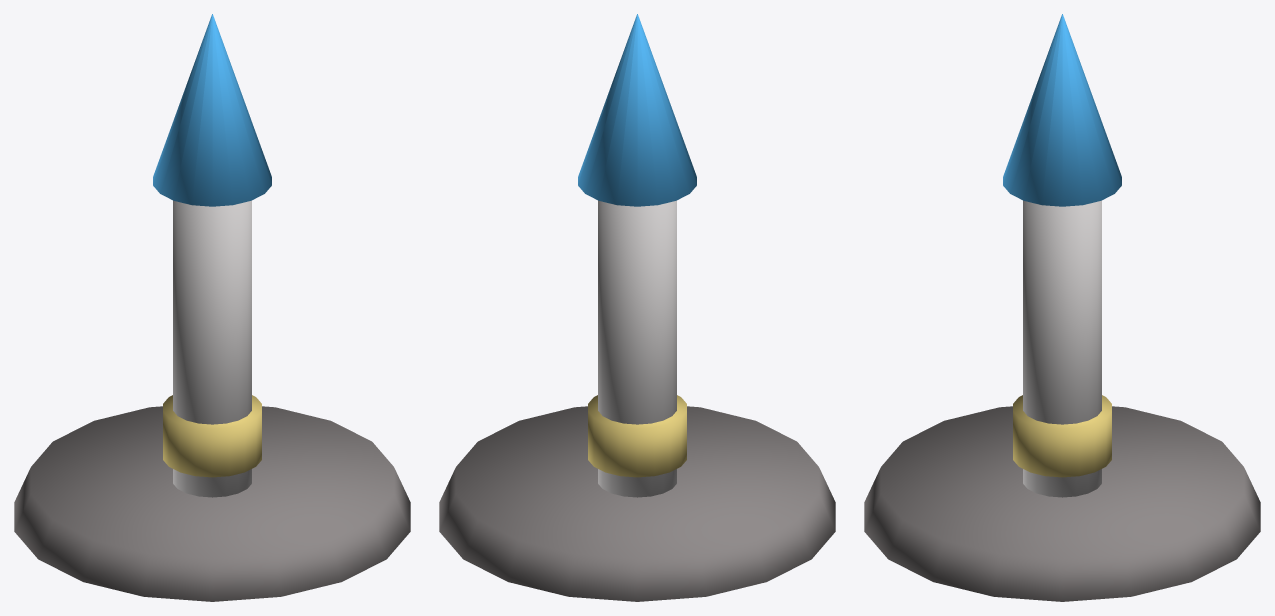
File: bunsen_burner.glb
The picture shows the model from 3 angles, left to right: view 1: azimuth 30°, elevation 25°; view 2: azimuth 150°, elevation 25°; view 3: azimuth 270°, elevation 25°; orthographic projection.
Visible parts, largest first — view 1: base_node, barrel_node, flame_node, collar_node; view 2: base_node, barrel_node, flame_node, collar_node; view 3: base_node, barrel_node, flame_node, collar_node.
Boxes of the visible parts, <box> form: base_node: <box>14,406,410,601</box>; barrel_node: <box>173,200,251,497</box>; flame_node: <box>153,14,271,206</box>; collar_node: <box>163,395,261,477</box>; base_node: <box>439,406,835,601</box>; barrel_node: <box>598,200,676,497</box>; flame_node: <box>578,14,696,206</box>; collar_node: <box>588,395,686,477</box>; base_node: <box>864,406,1260,601</box>; barrel_node: <box>1023,200,1101,497</box>; flame_node: <box>1003,14,1121,206</box>; collar_node: <box>1013,395,1111,477</box>.
Size of the model in its own units: 1.2 by 1.65 by 1.18.
